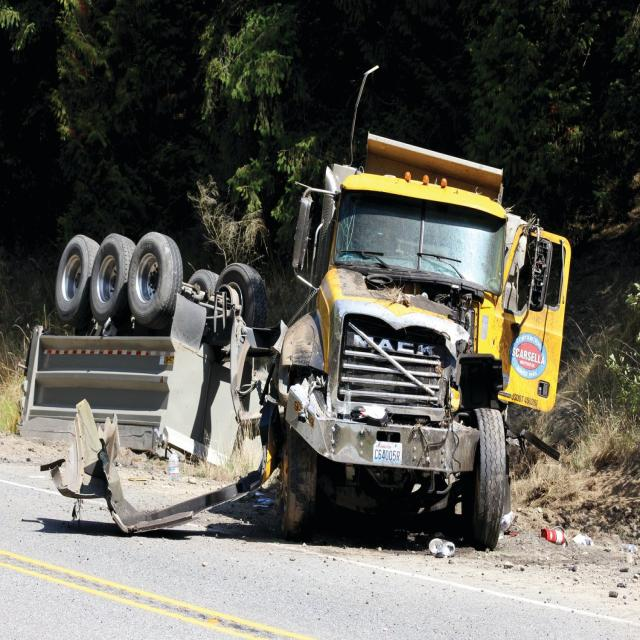Accident: (42, 64, 578, 557)
